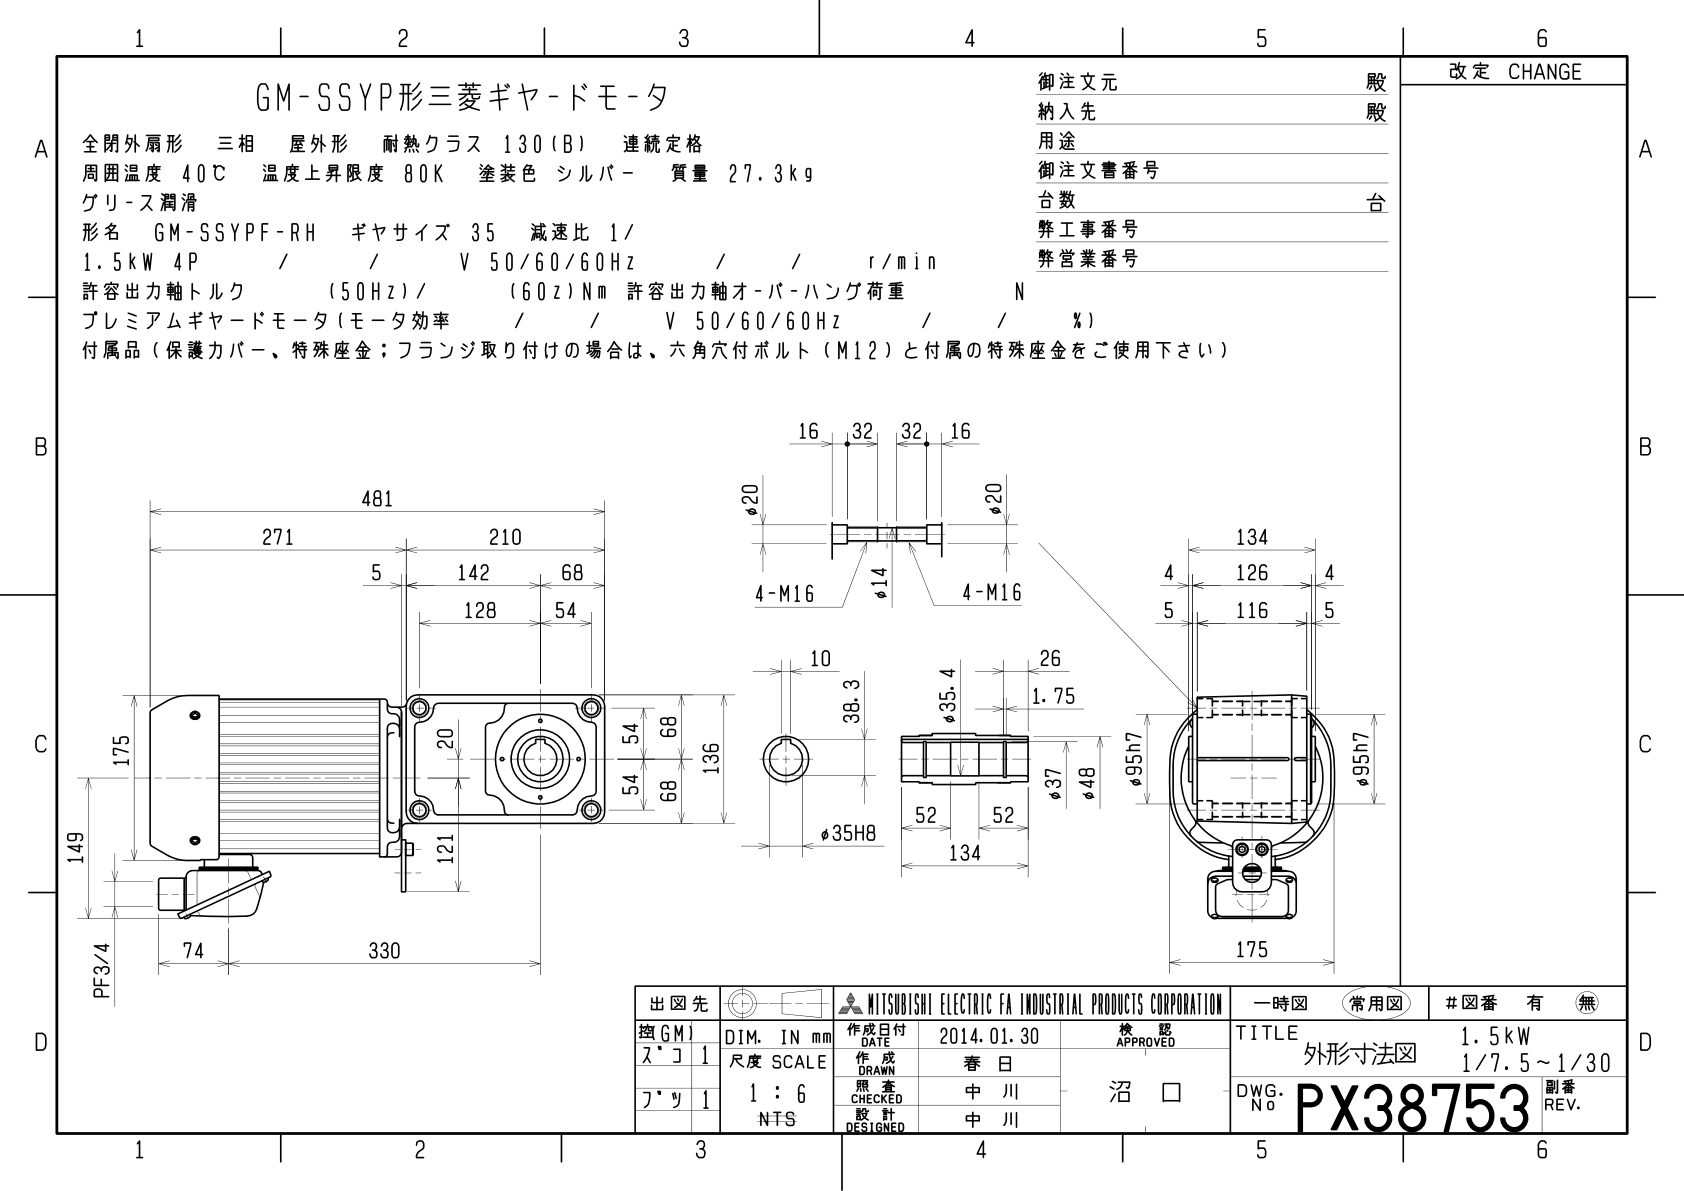GM_SSYP_屋外_三相: (64, 409, 1385, 974)
